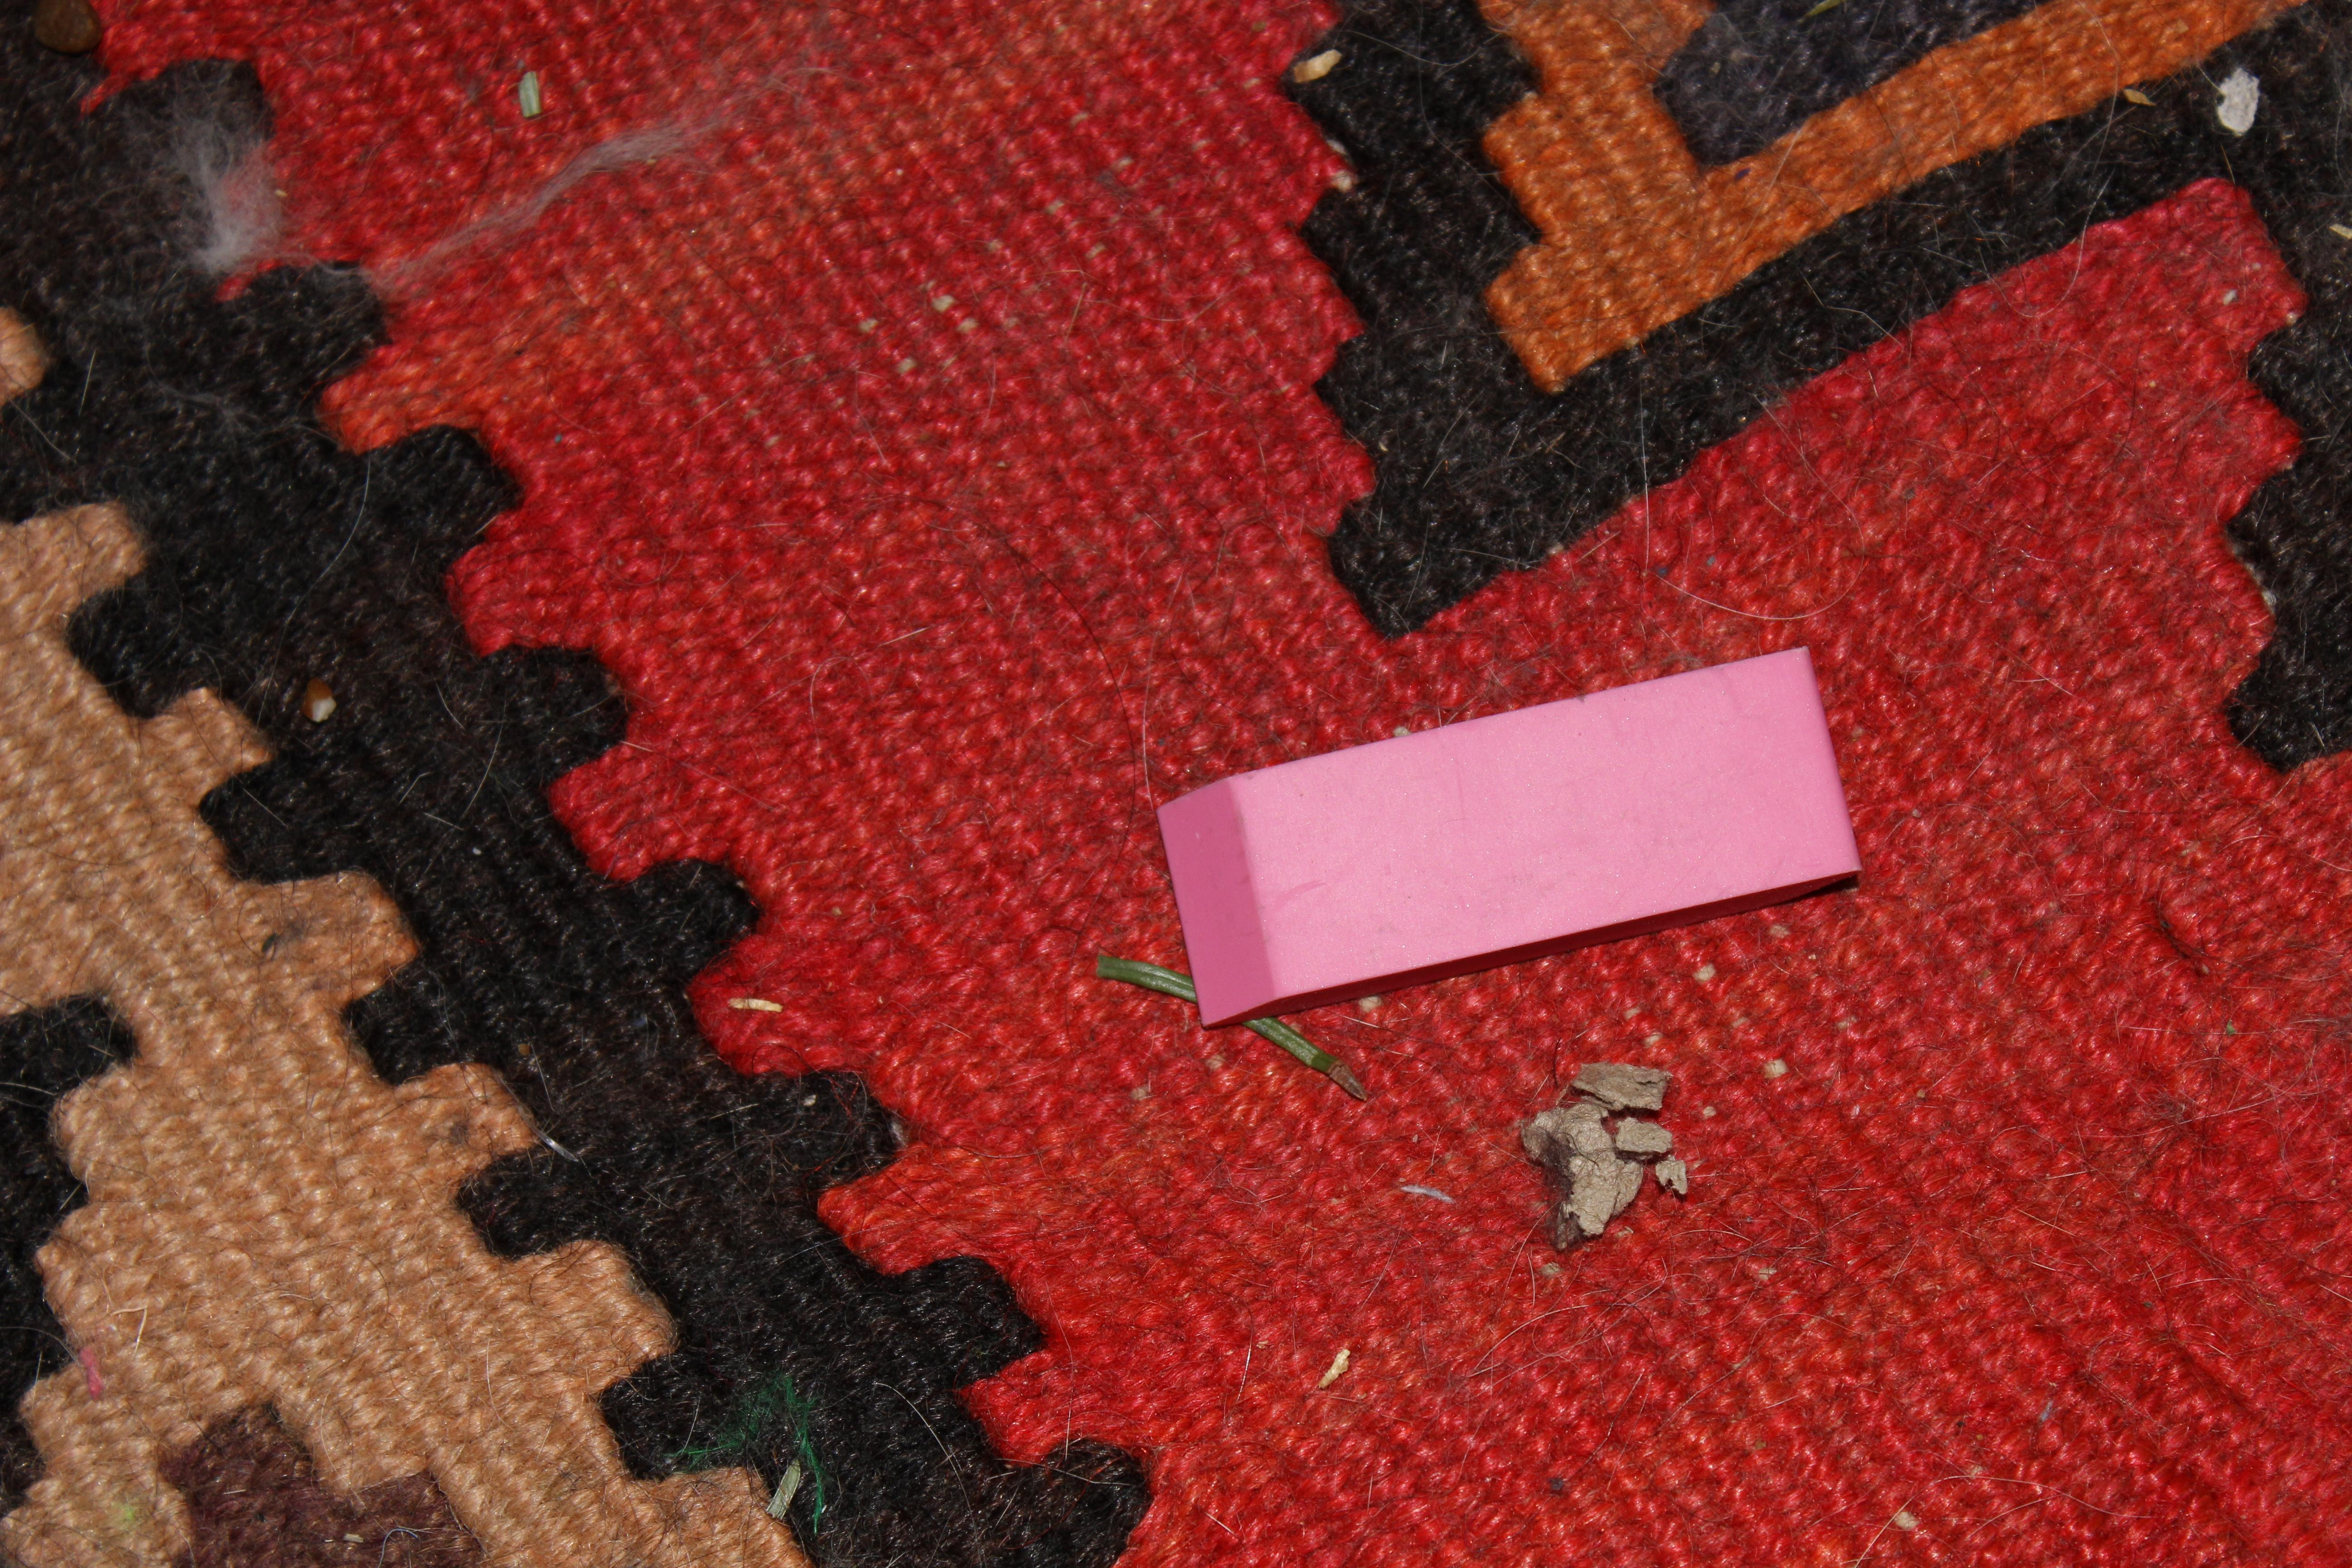pinkEraser: (1132, 623, 1888, 1050)
